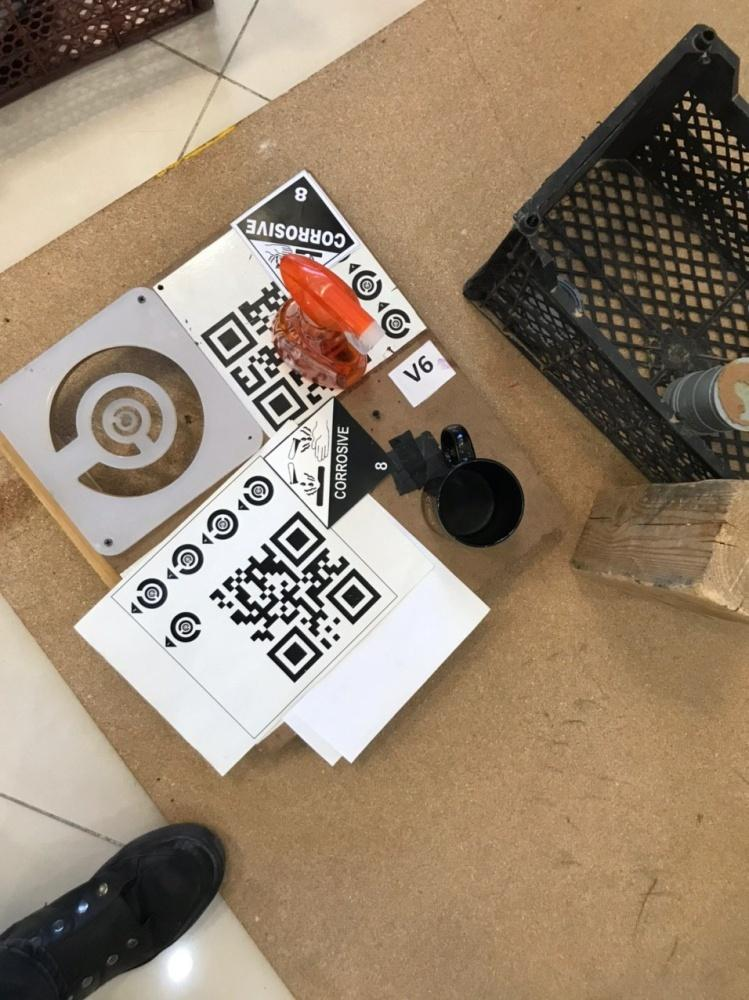corrosive: (269, 401, 391, 523), (230, 170, 362, 279)
